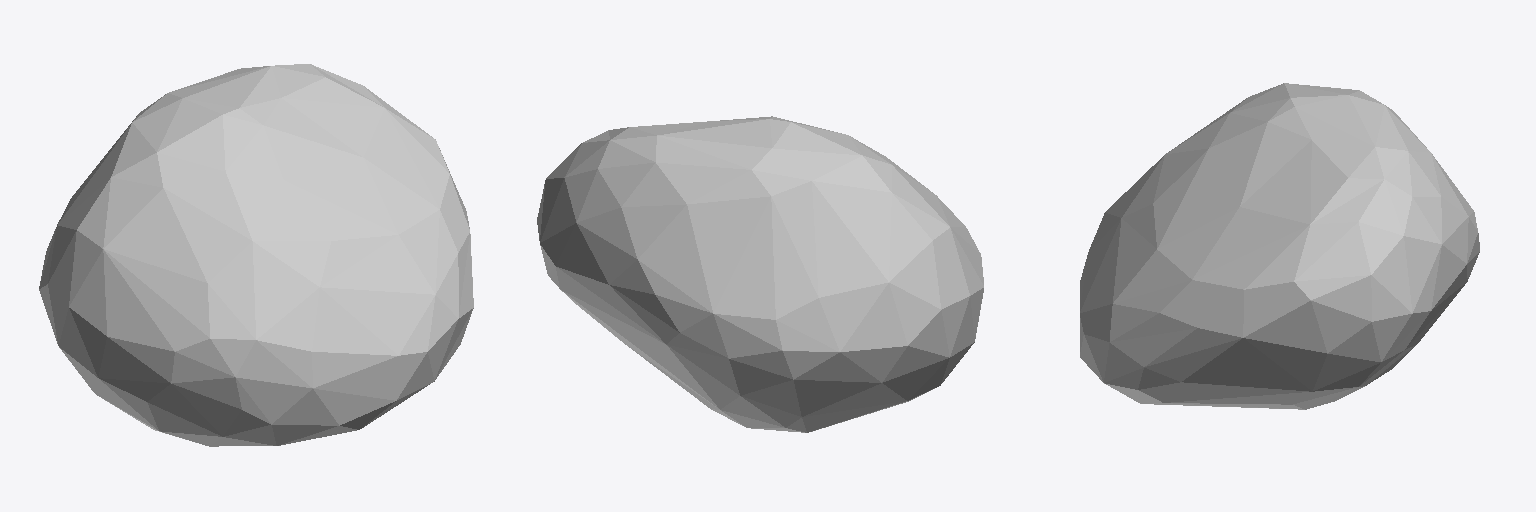
Rendered from stone.obj.
The picture shows the model from 3 angles: view 1: azimuth 30°, elevation 25°; view 2: azimuth 150°, elevation 25°; view 3: azimuth 270°, elevation 25°; orthographic projection.
Visible parts, largest first — view 1: Icosphere_Icosphere.001; view 2: Icosphere_Icosphere.001; view 3: Icosphere_Icosphere.001.
Part boxes in pixels (x1,y1,x2,y2): Icosphere_Icosphere.001: (39,64,473,446); Icosphere_Icosphere.001: (537,116,983,432); Icosphere_Icosphere.001: (1080,83,1479,409).
Size of the model in its own units: 1.99 by 1.41 by 1.78.